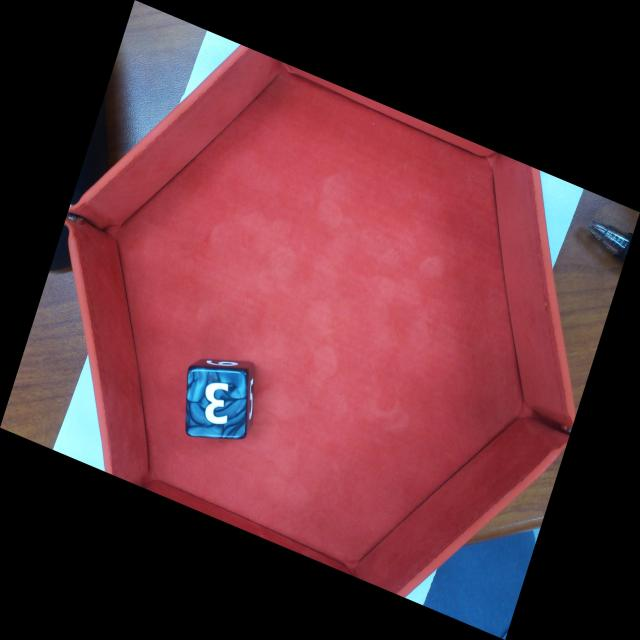dice: (186, 368, 247, 438)
